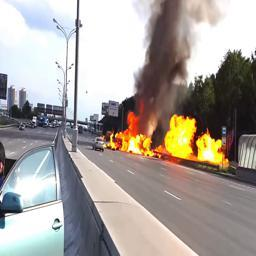fire: (111, 112, 160, 158), (196, 128, 230, 170), (164, 111, 193, 158)
